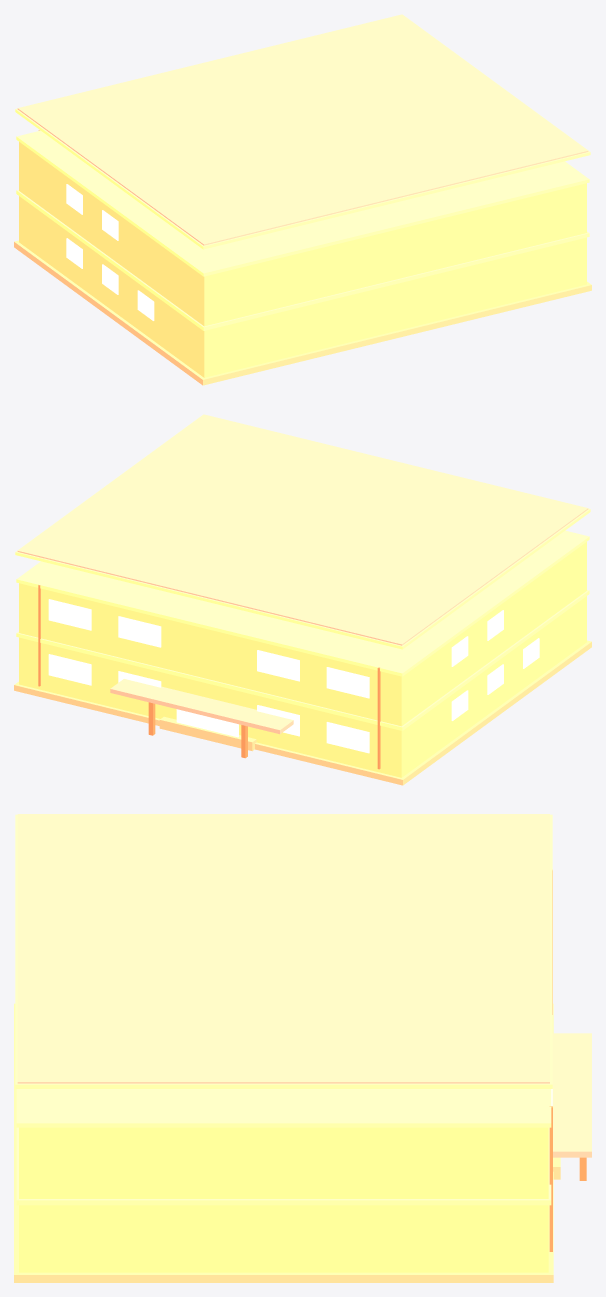
3 views of the same model, one above another, from view 1: azimuth 30°, elevation 25°; view 2: azimuth 150°, elevation 25°; view 3: azimuth 270°, elevation 25° (orthographic). The views are drawn at different scales.
Visible parts, largest first — view 1: 北区食堂 路 North 5 canopy, 北区食堂 路 North 5 wall, 北区食堂 路 North 5 trim, 北区食堂 路 North 5 brick, 北区食堂 路 North 5 glass; view 2: 北区食堂 路 North 5 canopy, 北区食堂 路 North 5 wall, 北区食堂 路 North 5 trim, 北区食堂 路 North 5 glass, 北区食堂 路 North 5 brick, 北区食堂 路 North 5 frame; view 3: 北区食堂 路 North 5 canopy, 北区食堂 路 North 5 wall, 北区食堂 路 North 5 trim, 北区食堂 路 North 5 brick, 北区食堂 路 North 5 frame.
Boxes of the visible parts, x1=… form: 北区食堂 路 North 5 canopy: x1=17, y1=14, x2=588, y2=245; 北区食堂 路 North 5 wall: x1=19, y1=142, x2=586, y2=377; 北区食堂 路 North 5 trim: x1=15, y1=15, x2=590, y2=330; 北区食堂 路 North 5 brick: x1=14, y1=240, x2=591, y2=385; 北区食堂 路 North 5 glass: x1=66, y1=184, x2=154, y2=320; 北区食堂 路 North 5 canopy: x1=17, y1=414, x2=588, y2=734; 北区食堂 路 North 5 wall: x1=19, y1=542, x2=586, y2=777; 北区食堂 路 North 5 trim: x1=15, y1=415, x2=590, y2=730; 北区食堂 路 North 5 glass: x1=48, y1=599, x2=539, y2=753; 北区食堂 路 North 5 brick: x1=14, y1=640, x2=591, y2=785; 北区食堂 路 North 5 frame: x1=38, y1=585, x2=380, y2=769; 北区食堂 路 North 5 canopy: x1=17, y1=814, x2=591, y2=1157; 北区食堂 路 North 5 wall: x1=19, y1=1127, x2=548, y2=1272; 北区食堂 路 North 5 trim: x1=15, y1=814, x2=552, y2=1205; 北区食堂 路 North 5 brick: x1=14, y1=1003, x2=560, y2=1282; 北区食堂 路 North 5 frame: x1=549, y1=870, x2=586, y2=1251.
Size of the model in its own units: 50.4 by 17.27 by 45.4.
